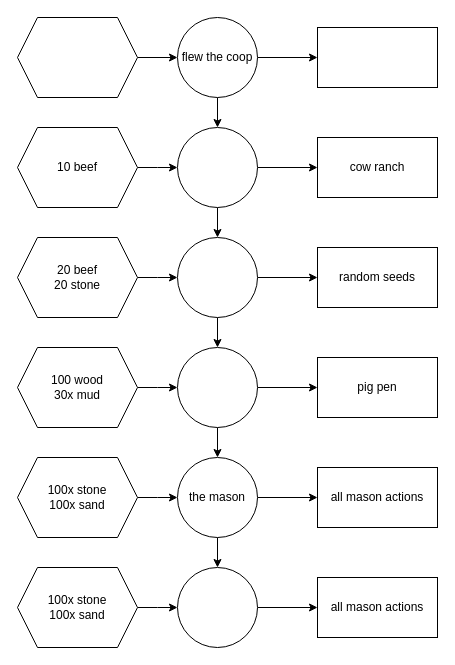
The diagram is 455 pixels wide and 665 high, and some of its shapes have lost their labels. Each missing label, with the box of its shape:
10 chicken: (16, 16, 138, 98)
chicken coop: (316, 26, 438, 88)
mad cows: (176, 126, 258, 208)
seedy operation: (176, 236, 258, 318)
war pigs: (176, 346, 258, 428)
witches brew: (176, 566, 258, 648)
